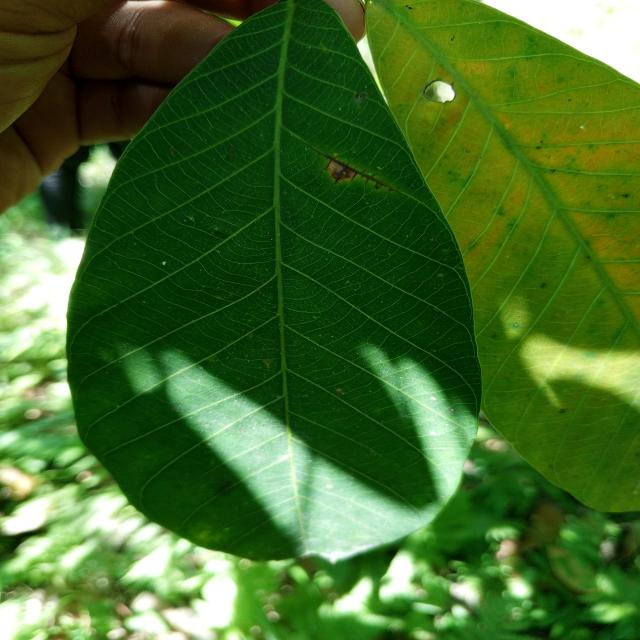Corynespora: (317, 150, 394, 192)
